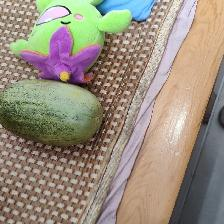gua: (15, 85, 94, 144)
